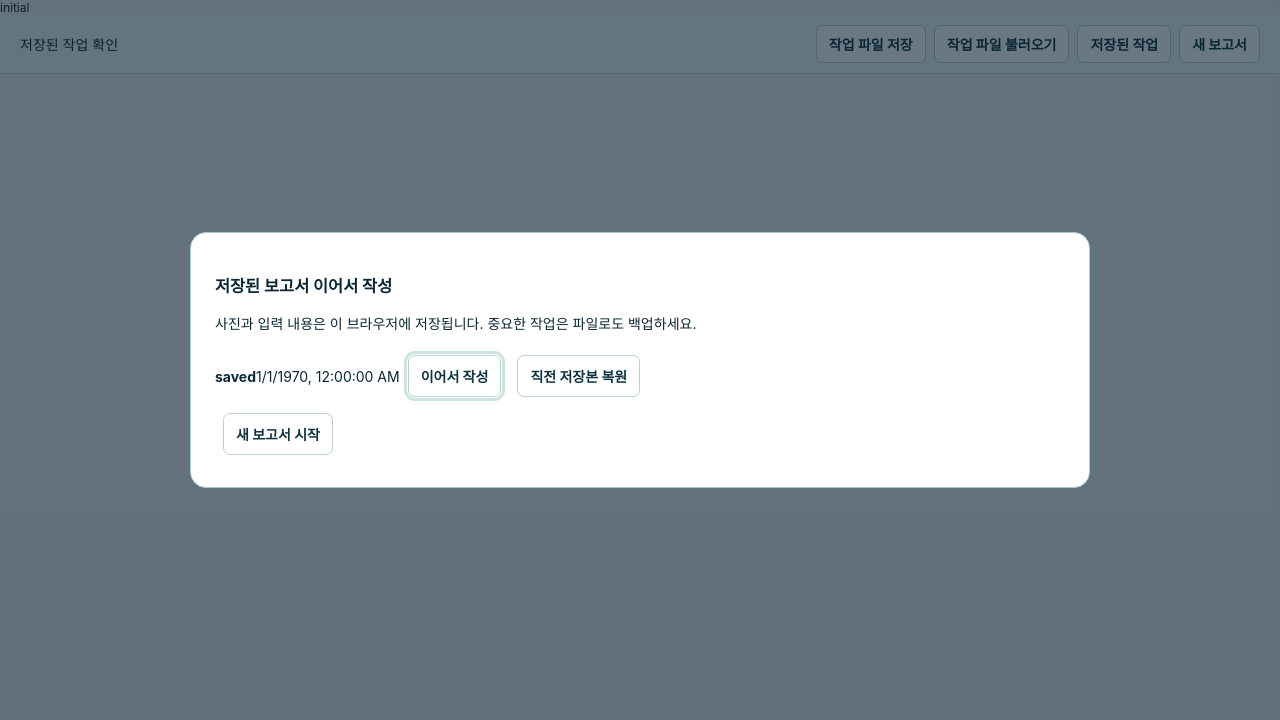
opening an existing job does not resave identical data and destroy its previous version
Click the button "이어서 작성" at (455, 376), box [408,355,501,397]
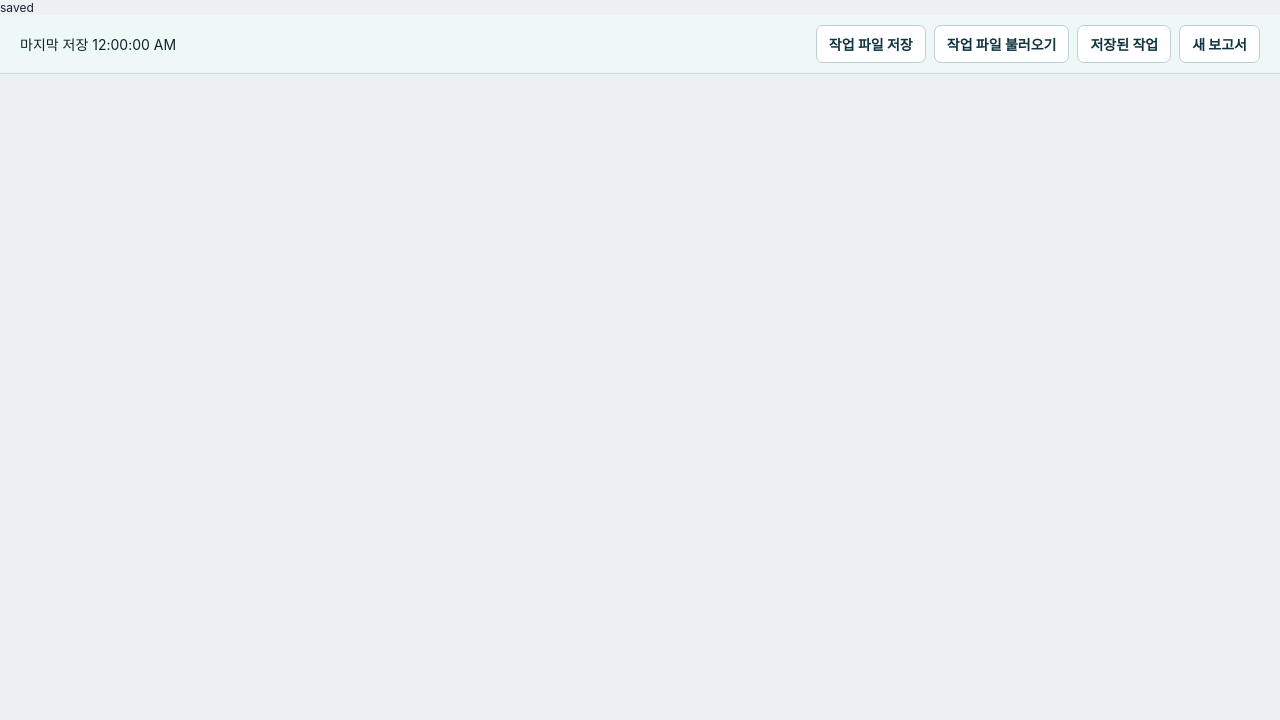
Result: the text "saved" is shown at [0,0,34,15]
